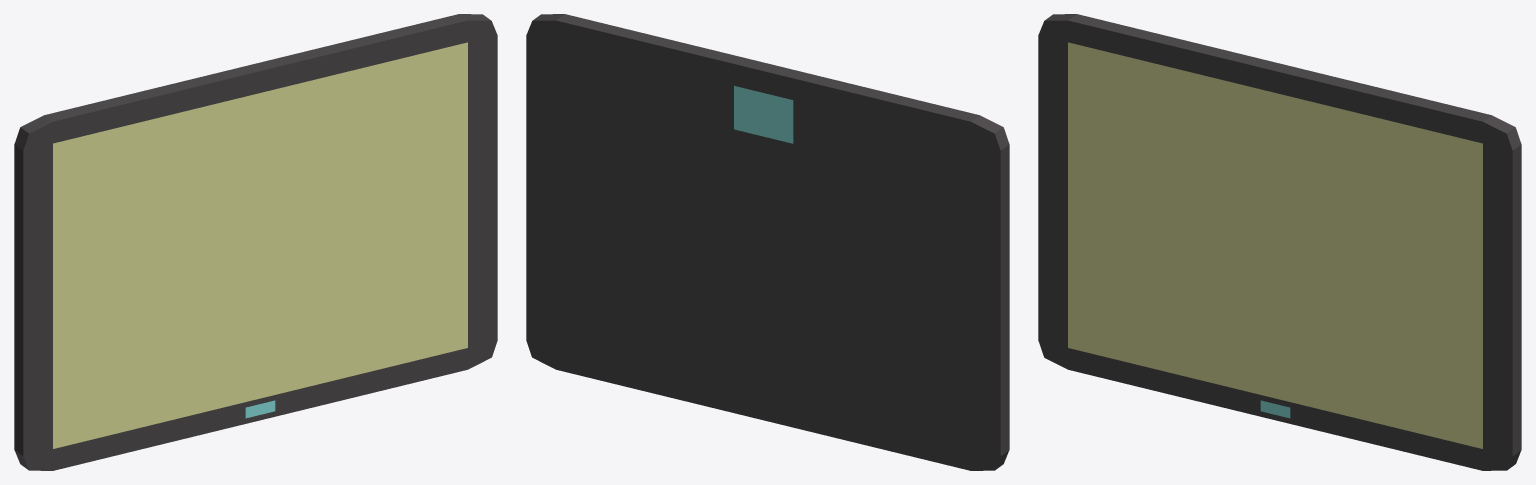
File: tablet.dae
The picture shows the model from 3 angles, left to right: view 1: azimuth 30°, elevation 25°; view 2: azimuth 150°, elevation 25°; view 3: azimuth 330°, elevation 25°; orthographic projection.
Parts seen in each view (by area): view 1: Cube; view 2: Cube; view 3: Cube.
Part boxes in pixels (left/top/right/bottom): Cube: left=14, top=14, right=497, bottom=470; Cube: left=526, top=14, right=1009, bottom=470; Cube: left=1038, top=14, right=1521, bottom=470.
Bounding box in the file's own units: 0.243 × 0.171 × 0.0079.
